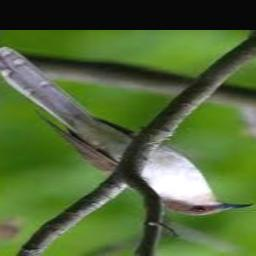Cuckoo: (0, 45, 255, 215)
